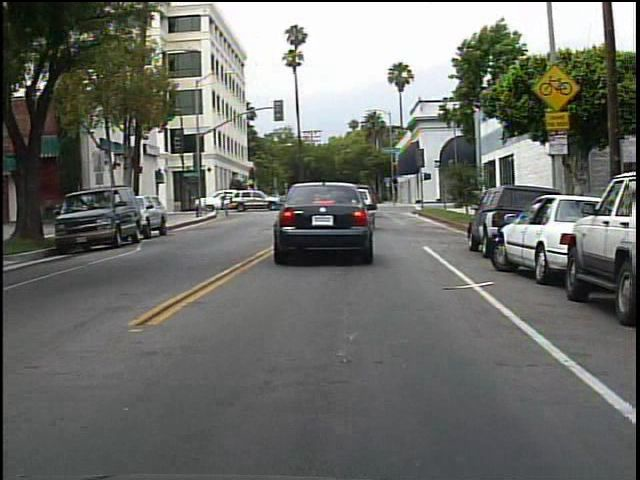person: (213, 187, 233, 218)
